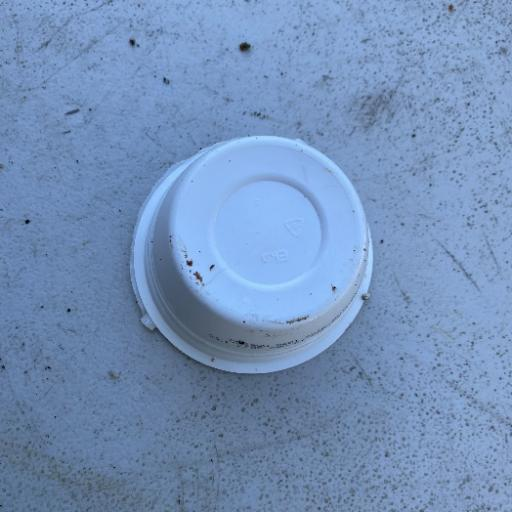Plastic: (127, 132, 377, 377)
